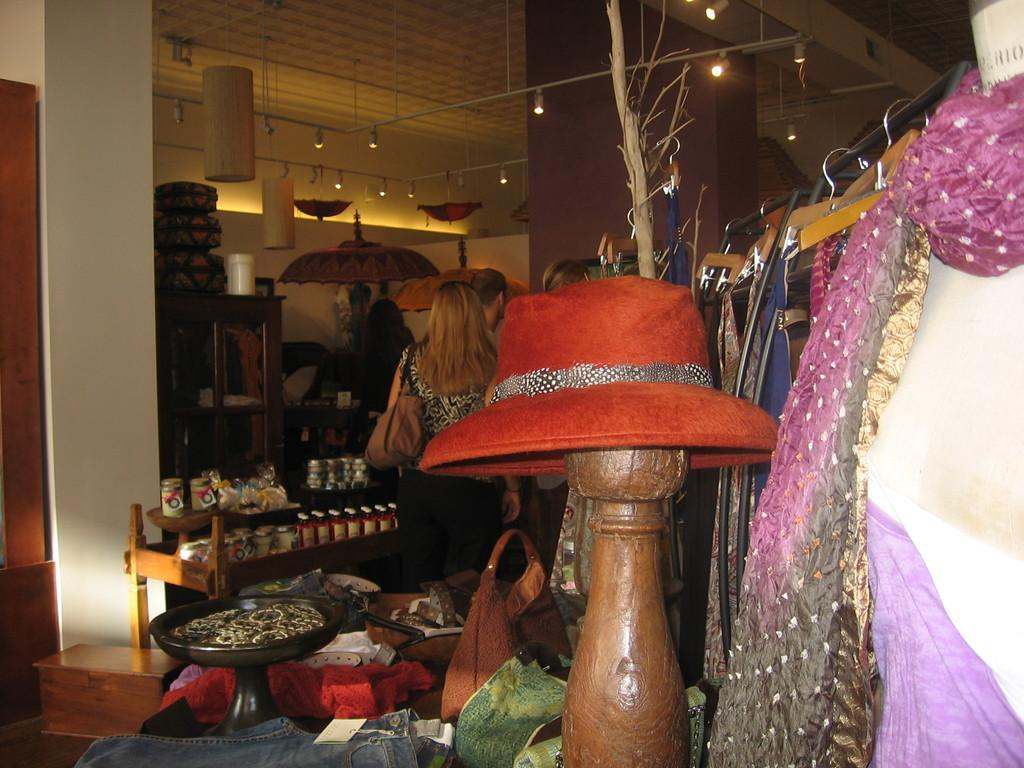Hat: (417, 270, 777, 474)
